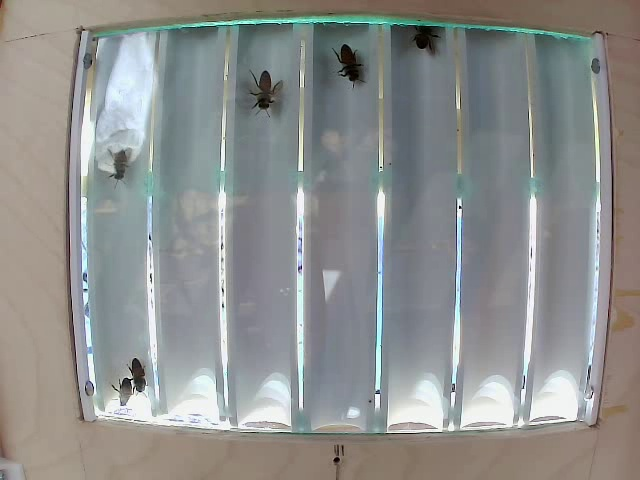bee: (246, 65, 285, 121), (326, 38, 365, 85), (407, 13, 437, 63)
